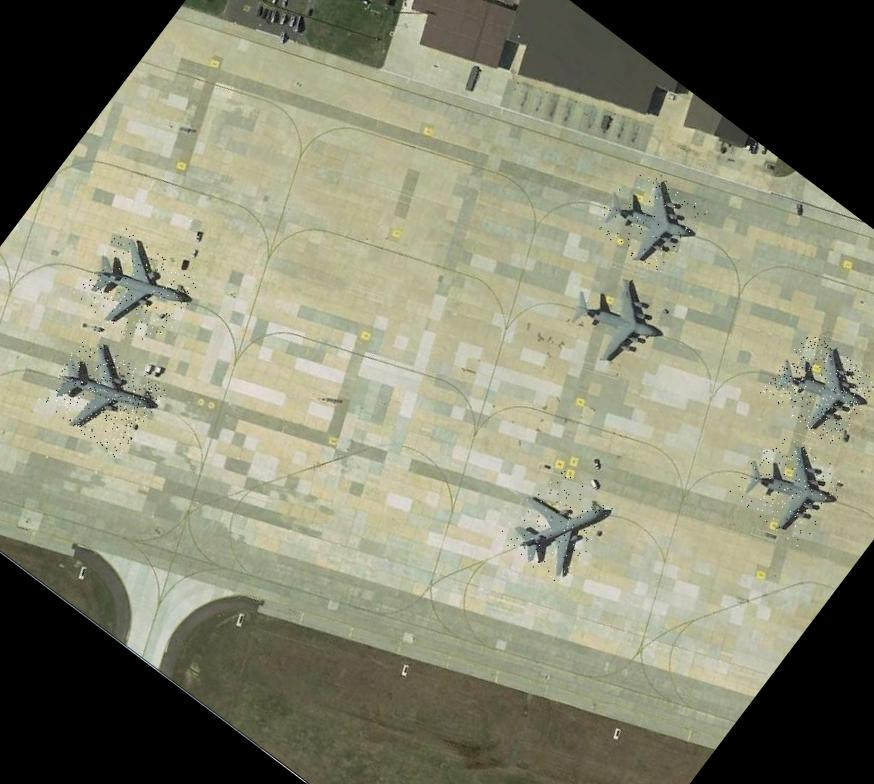A18: (70, 225, 204, 355), (36, 332, 166, 459), (495, 463, 616, 588)
A3: (554, 259, 678, 382), (727, 425, 851, 548), (589, 161, 709, 280), (759, 328, 874, 447)
